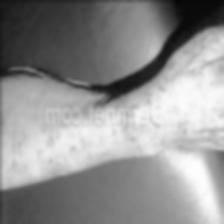Toxin: (42, 130, 82, 154), (165, 50, 191, 76), (143, 80, 169, 103), (206, 104, 224, 130), (180, 107, 190, 141), (109, 130, 131, 140)
